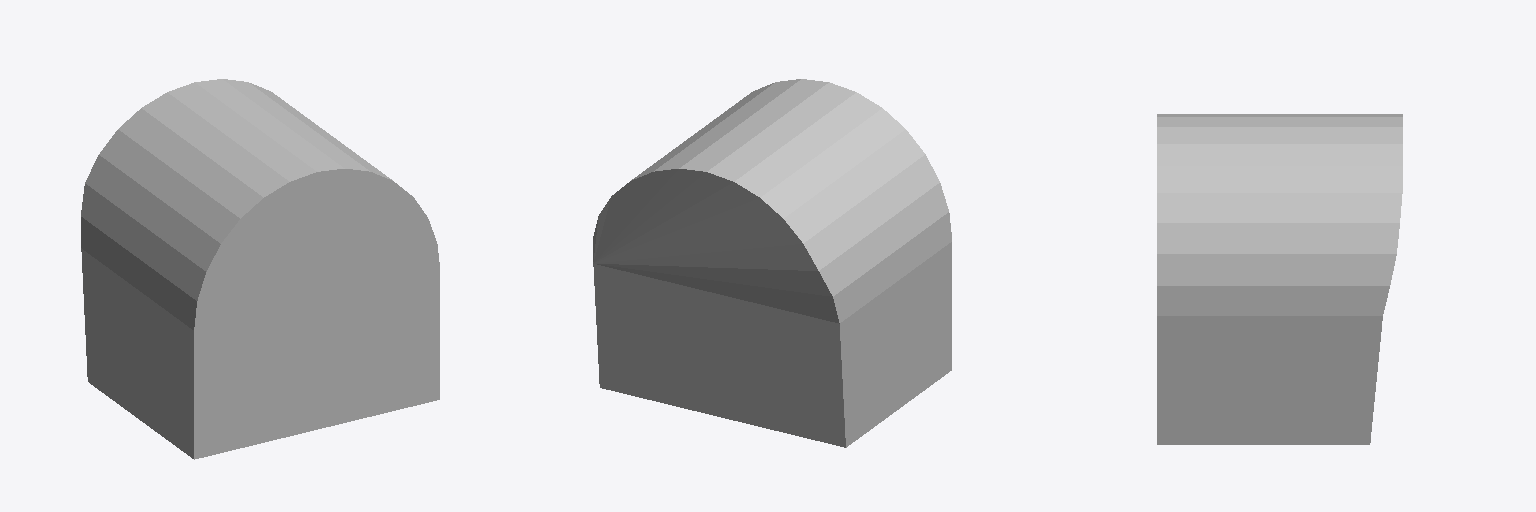
Rendered from Puerta.obj.
3 renders of one model, left to right at view 1: azimuth 30°, elevation 25°; view 2: azimuth 150°, elevation 25°; view 3: azimuth 270°, elevation 25°, orthographic.
Visible parts, largest first — view 1: pasted__pCube1 group1; view 2: pasted__pCube1 group1; view 3: pasted__pCube1 group1.
Part boxes in pixels (x1,y1,x2,y2): pasted__pCube1 group1: (81,79,439,459); pasted__pCube1 group1: (593,79,951,447); pasted__pCube1 group1: (1157,114,1402,444).
Bounding box in the file's own units: 0.335 × 0.335 × 0.2887.